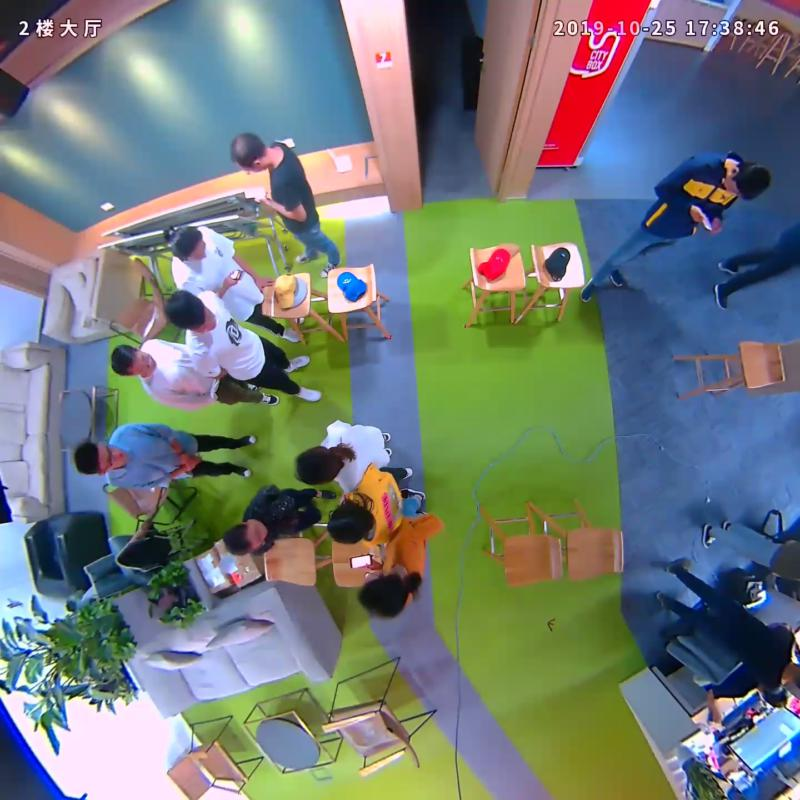head: (358, 571, 407, 619), (165, 289, 215, 333), (327, 500, 373, 545), (724, 160, 771, 200), (75, 441, 127, 475), (294, 445, 336, 486), (223, 519, 268, 556), (229, 132, 267, 173), (109, 343, 154, 376), (169, 225, 207, 262)
